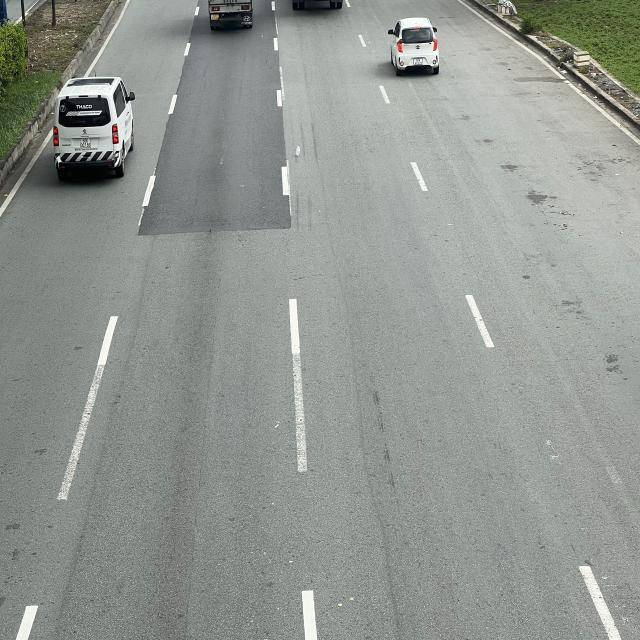car: (386, 17, 444, 76)
van: (48, 74, 137, 175)
